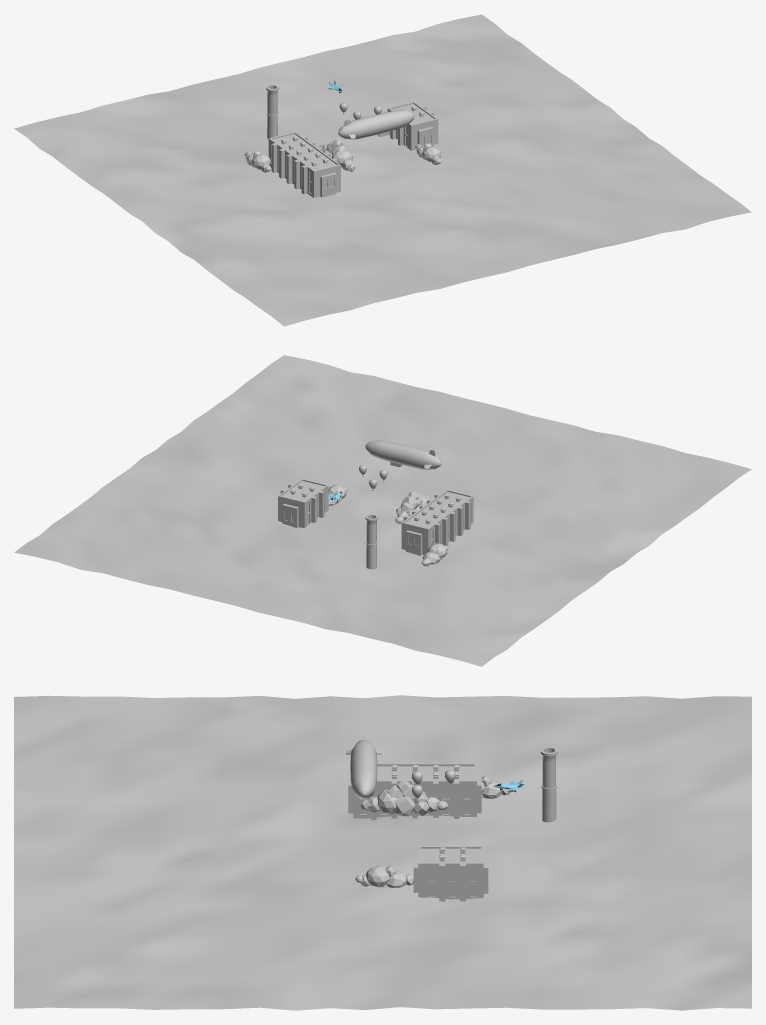
The model's file is changjing8_1.fbx.
3 renders of one model, top to bottom at view 1: azimuth 30°, elevation 25°; view 2: azimuth 150°, elevation 25°; view 3: azimuth 270°, elevation 25°, orthographic. The views are drawn at different scales.
Parts seen in each view (by area): view 1: tiankong, FeiTing1; view 2: tiankong, FeiTing1; view 3: tiankong, FeiTing1.
Part boxes in pixels (x1,y1,x2,y2): tiankong: (14, 14, 751, 326); FeiTing1: (338, 109, 414, 139); tiankong: (14, 355, 751, 666); FeiTing1: (365, 440, 441, 469); tiankong: (14, 695, 751, 1010); FeiTing1: (346, 732, 381, 798).
Bounding box in the file's own units: 34312 × 8995 × 34312.
